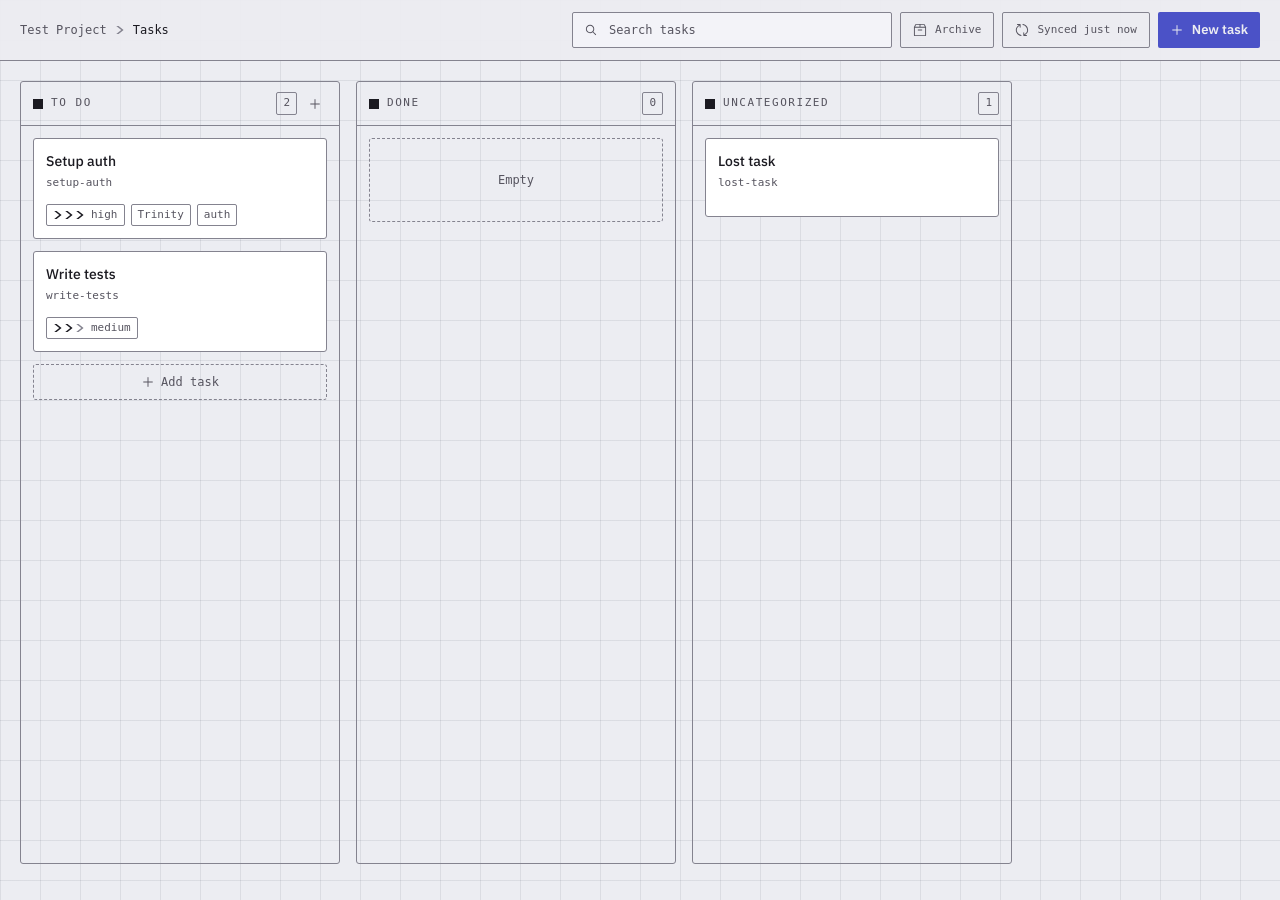
it: Board › edits a task update inline and preserves the authoritative timestamp
The image size is (1280, 900).
Click the heading "Setup auth" at (81, 161), box [46,152,116,170]
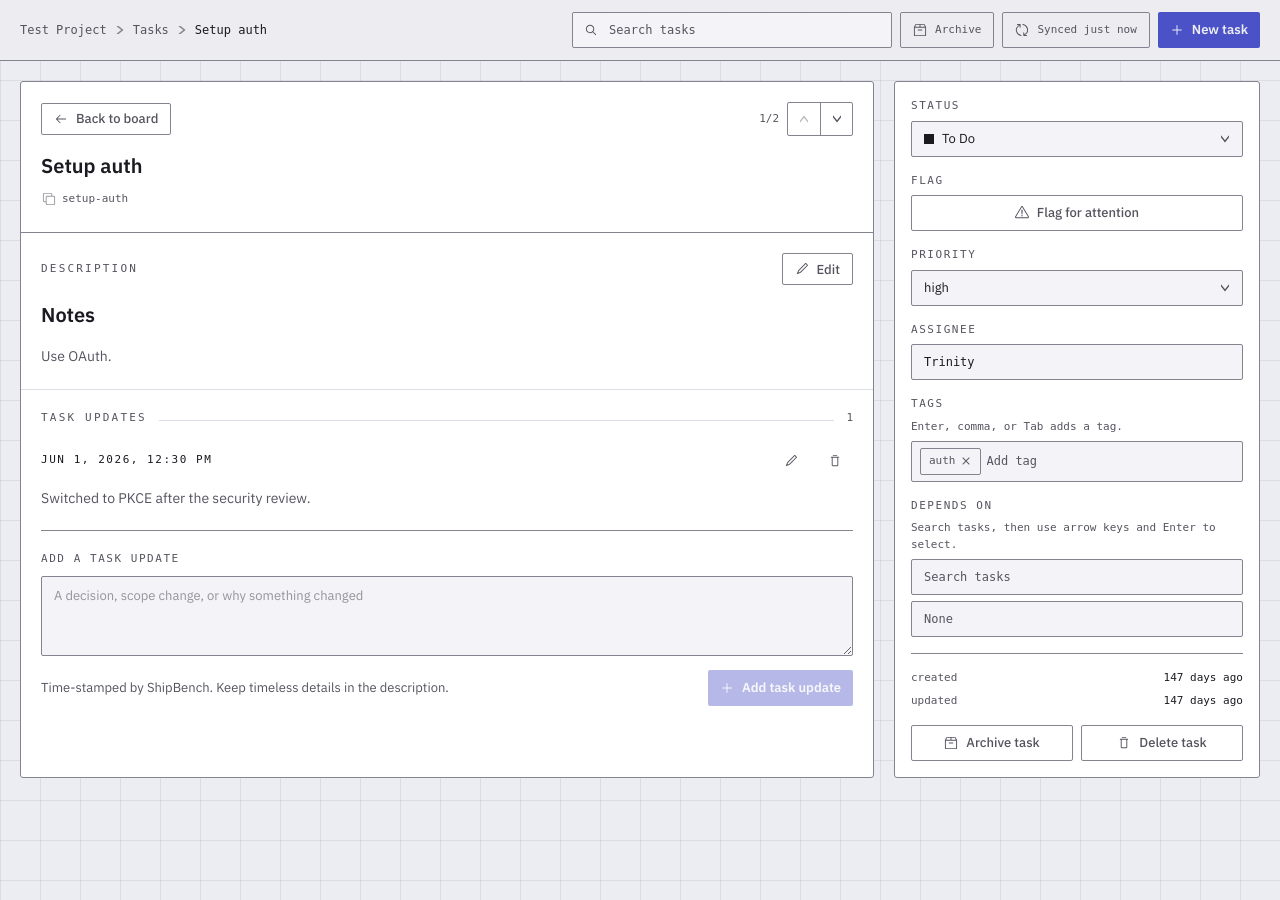
Click the button named "Edit task update 1" at (791, 460), box [773,442,809,478]
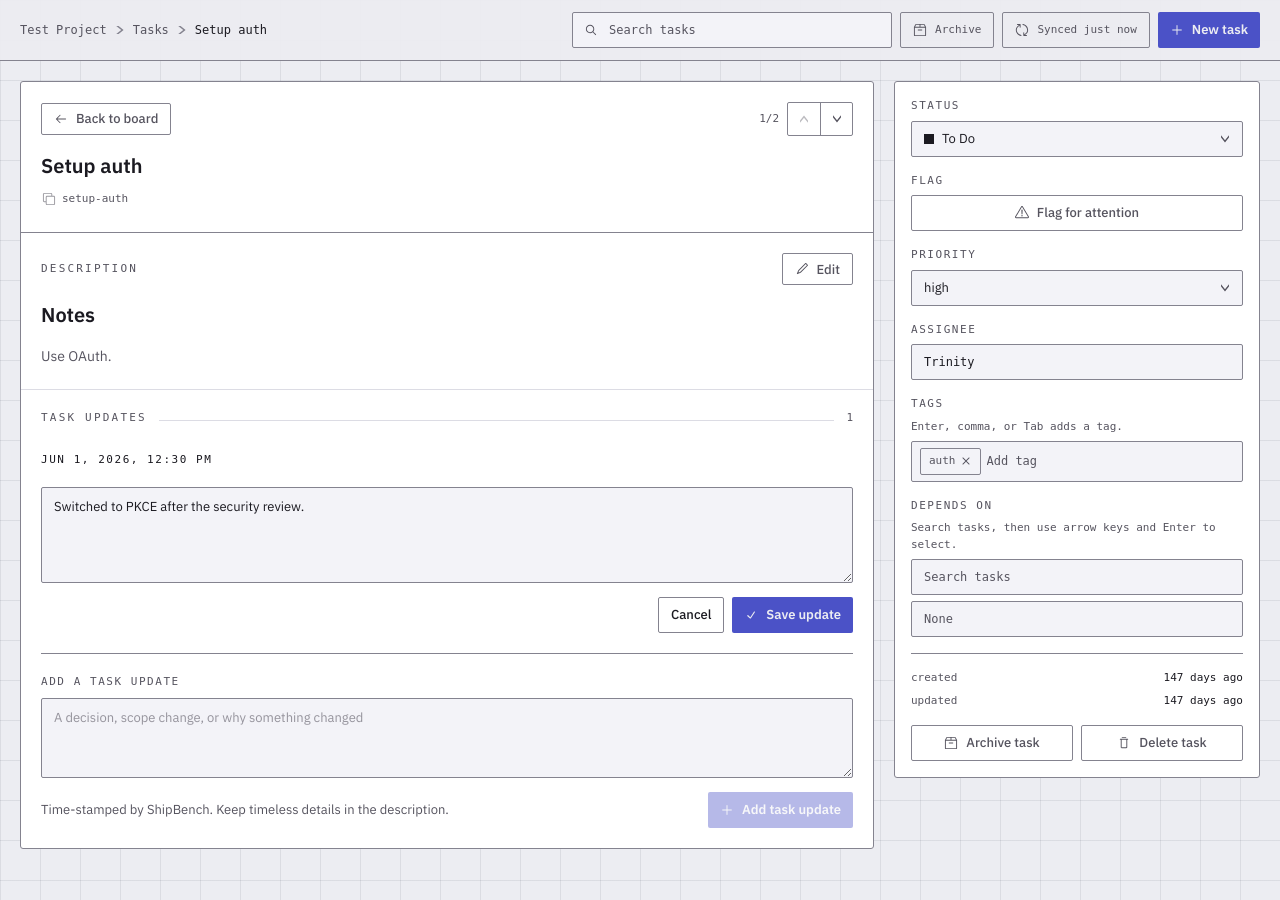
Replace the text in the text box named "Task update 1 text" with "Corrected the PKCE decision." at (447, 534), box [41,486,853,582]
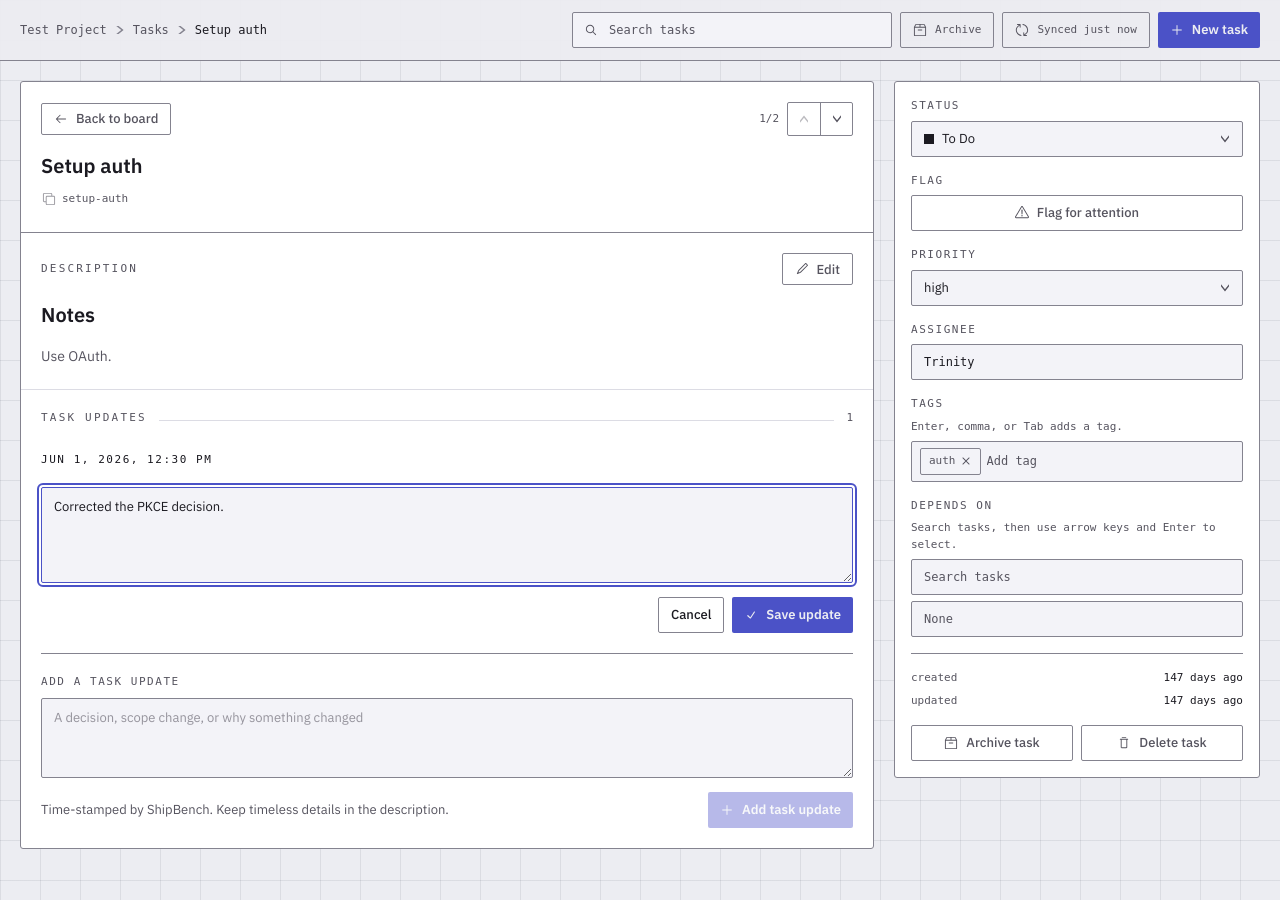
Click the button "Save update" at (793, 614), box [732,596,853,632]
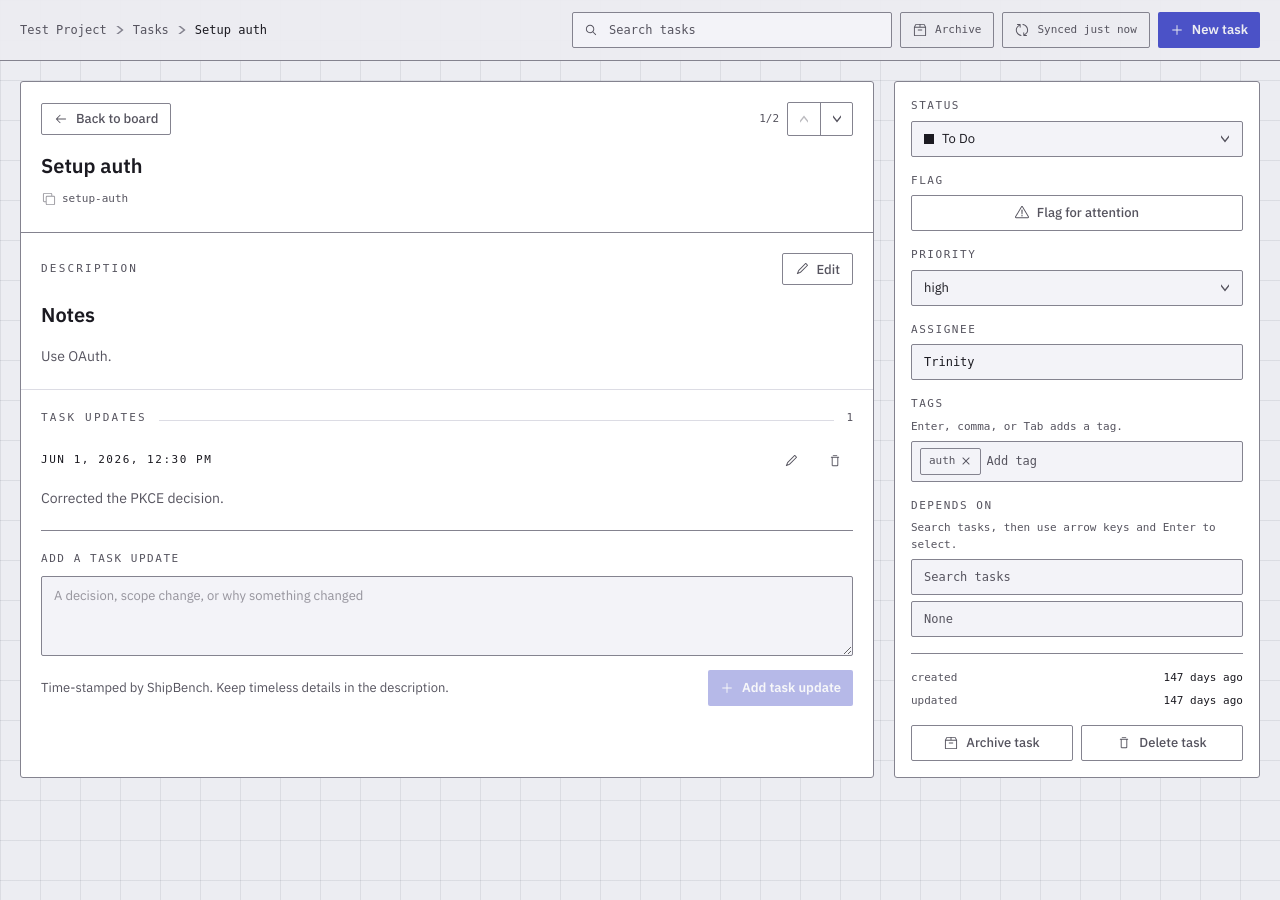
Expected: the text titled "2026-06-01T12:30:00.000Z" is shown, [41,452,212,469]
Expected: the text "Corrected the PKCE decision." is shown, [41,488,224,506]
